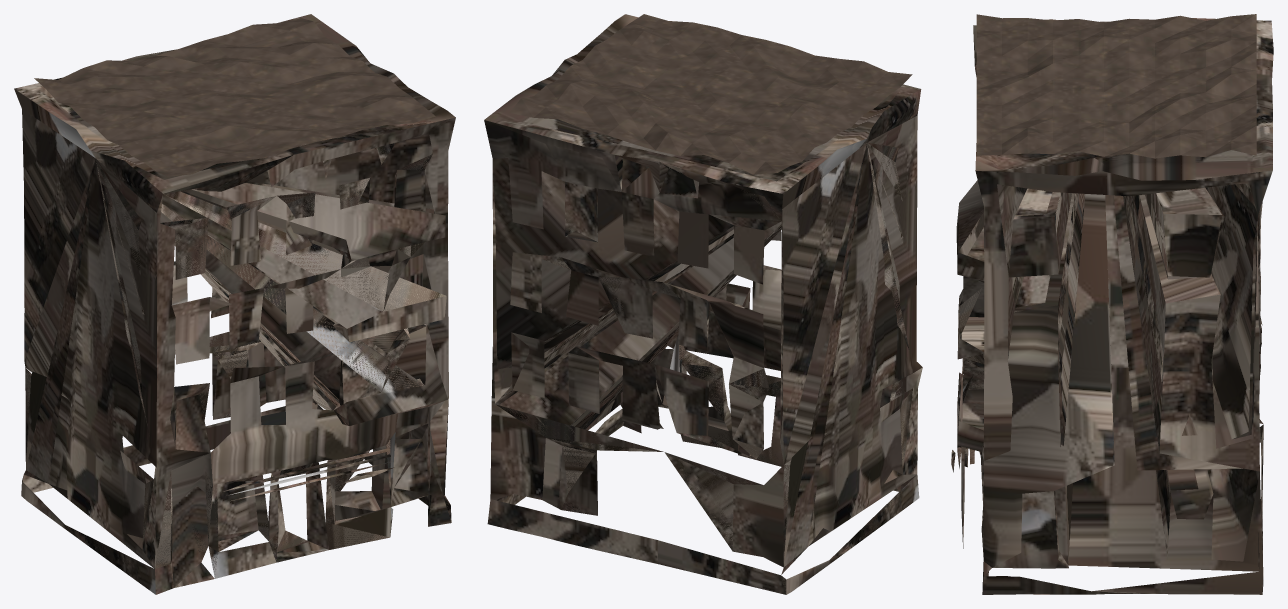
The model's file is ruin_shop.glb.
3 views of the same model, side by side, from view 1: azimuth 30°, elevation 25°; view 2: azimuth 150°, elevation 25°; view 3: azimuth 270°, elevation 25° (orthographic). The views are drawn at different scales.
Size of the model in its own units: 1.53 by 2 by 1.33.
Materials: 1 (1 with a texture image).
